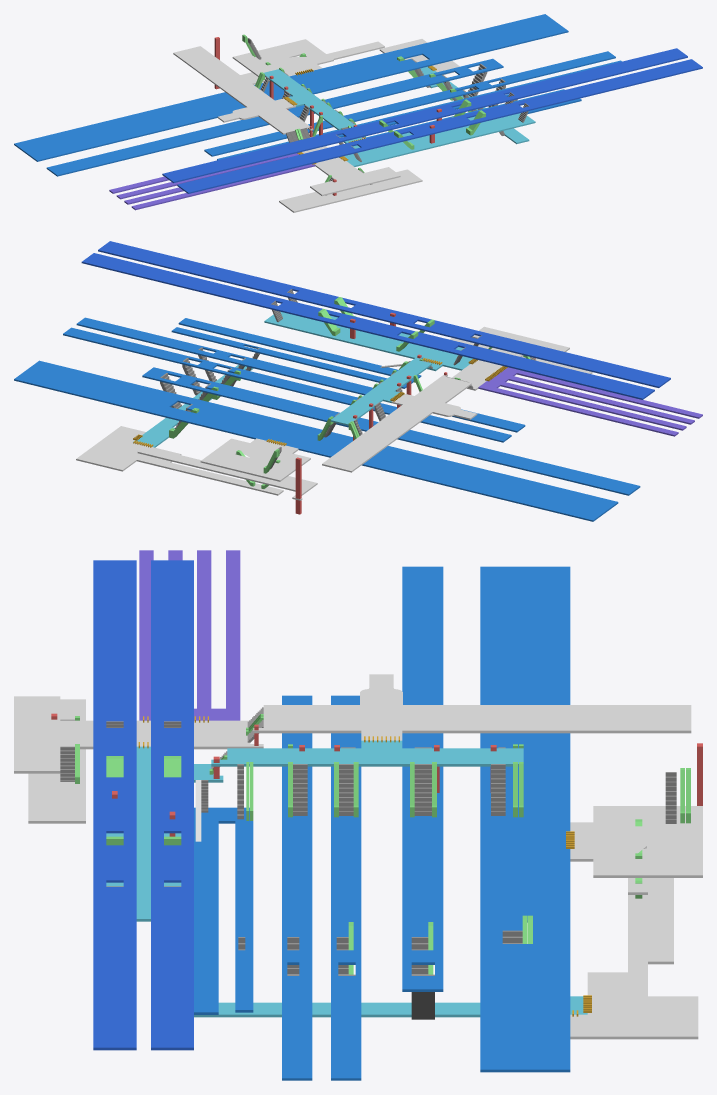
Rendered from 京都駅.fbx.
The picture shows the model from 3 angles, top to bottom: view 1: azimuth 30°, elevation 25°; view 2: azimuth 150°, elevation 25°; view 3: azimuth 270°, elevation 25°; orthographic projection. The views are drawn at different scales.
Visible parts, largest first — view 1: 在来線0番ホーム, 新幹線ホーム北, 新幹線ホーム南, 在来線2,3番ホーム, 南北自由通路, 在来線4,5番ホーム, 新幹線改札内通路, 近鉄ホーム, 中央口前通路, 近鉄新幹線連絡通路, 南道路, 改札内通路 (+5 smaller); view 2: 在来線0番ホーム, 新幹線ホーム南, 新幹線ホーム北, 在来線2,3番ホーム, 近鉄ホーム, 南北自由通路, 在来線4,5番ホーム, 在来線6,7番ホーム, 在来線8,9,10番ホーム, 地下東口前通路, 新幹線改札内通路, 中央口前通路 (+4 smaller); view 3: 在来線0番ホーム, 新幹線ホーム南, 新幹線ホーム北, 在来線2,3番ホーム, 南北自由通路, 在来線6,7番ホーム, 在来線8,9,10番ホーム, 在来線4,5番ホーム, 中央口前通路, 地下東口前通路, 近鉄ホーム, 近鉄新幹線連絡通路 (+6 smaller).
Boxes of the visible parts, box(x1,y1,x2,y2) form: 在来線0番ホーム: box(14, 14, 568, 161); 新幹線ホーム北: box(162, 48, 687, 183); 新幹線ホーム南: box(177, 59, 702, 193); 在来線2,3番ホーム: box(46, 58, 503, 176); 南北自由通路: box(173, 46, 313, 134); 在来線4,5番ホーム: box(204, 51, 615, 156); 新幹線改札内通路: box(344, 113, 535, 166); 近鉄ホーム: box(109, 153, 315, 210); 中央口前通路: box(232, 39, 333, 77); 近鉄新幹線連絡通路: box(302, 136, 400, 196); 南道路: box(279, 169, 422, 212); 改札内通路: box(263, 69, 354, 130); 在来線0番ホーム: box(14, 360, 618, 521); 新幹線ホーム南: box(98, 241, 670, 387); 新幹線ホーム北: box(81, 253, 654, 399); 在来線2,3番ホーム: box(142, 367, 640, 495); 近鉄ホーム: box(478, 367, 702, 436); 南北自由通路: box(322, 374, 477, 472); 在来線4,5番ホーム: box(63, 327, 511, 442); 在来線6,7番ホーム: box(76, 317, 525, 432); 在来線8,9,10番ホーム: box(171, 318, 421, 388); 地下東口前通路: box(76, 426, 283, 495); 新幹線改札内通路: box(264, 311, 472, 370); 中央口前通路: box(200, 438, 310, 481); 在来線0番ホーム: box(480, 566, 570, 1072); 新幹線ホーム南: box(93, 560, 136, 1050); 新幹線ホーム北: box(151, 560, 193, 1050); 在来線2,3番ホーム: box(402, 566, 443, 991); 南北自由通路: box(253, 674, 691, 733); 在来線6,7番ホーム: box(282, 695, 312, 1080); 在来線8,9,10番ホーム: box(194, 807, 253, 1014); 在来線4,5番ホーム: box(331, 695, 361, 1080); 中央口前通路: box(570, 806, 702, 877); 地下東口前通路: box(570, 895, 698, 1039); 近鉄ホーム: box(139, 550, 240, 720); 近鉄新幹線連絡通路: box(14, 696, 263, 773).
Size of what is drawn, in the model's own units: 44000 by 4450 by 23904.
